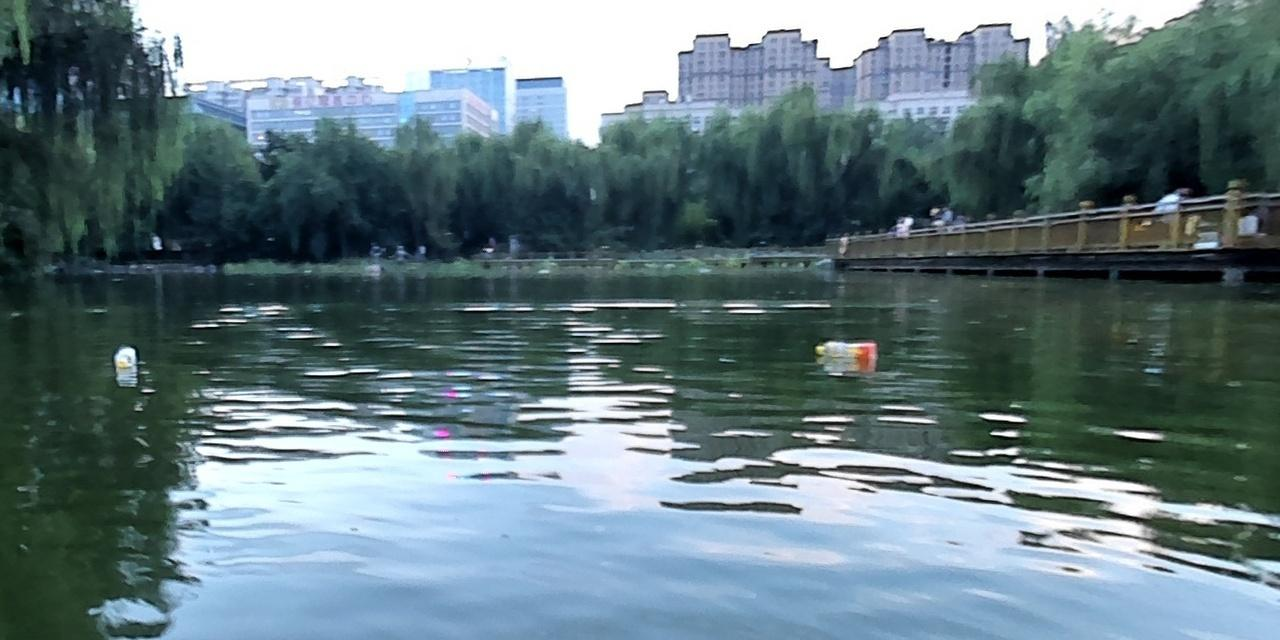bottle: (816, 339, 875, 364), (112, 345, 136, 367)
